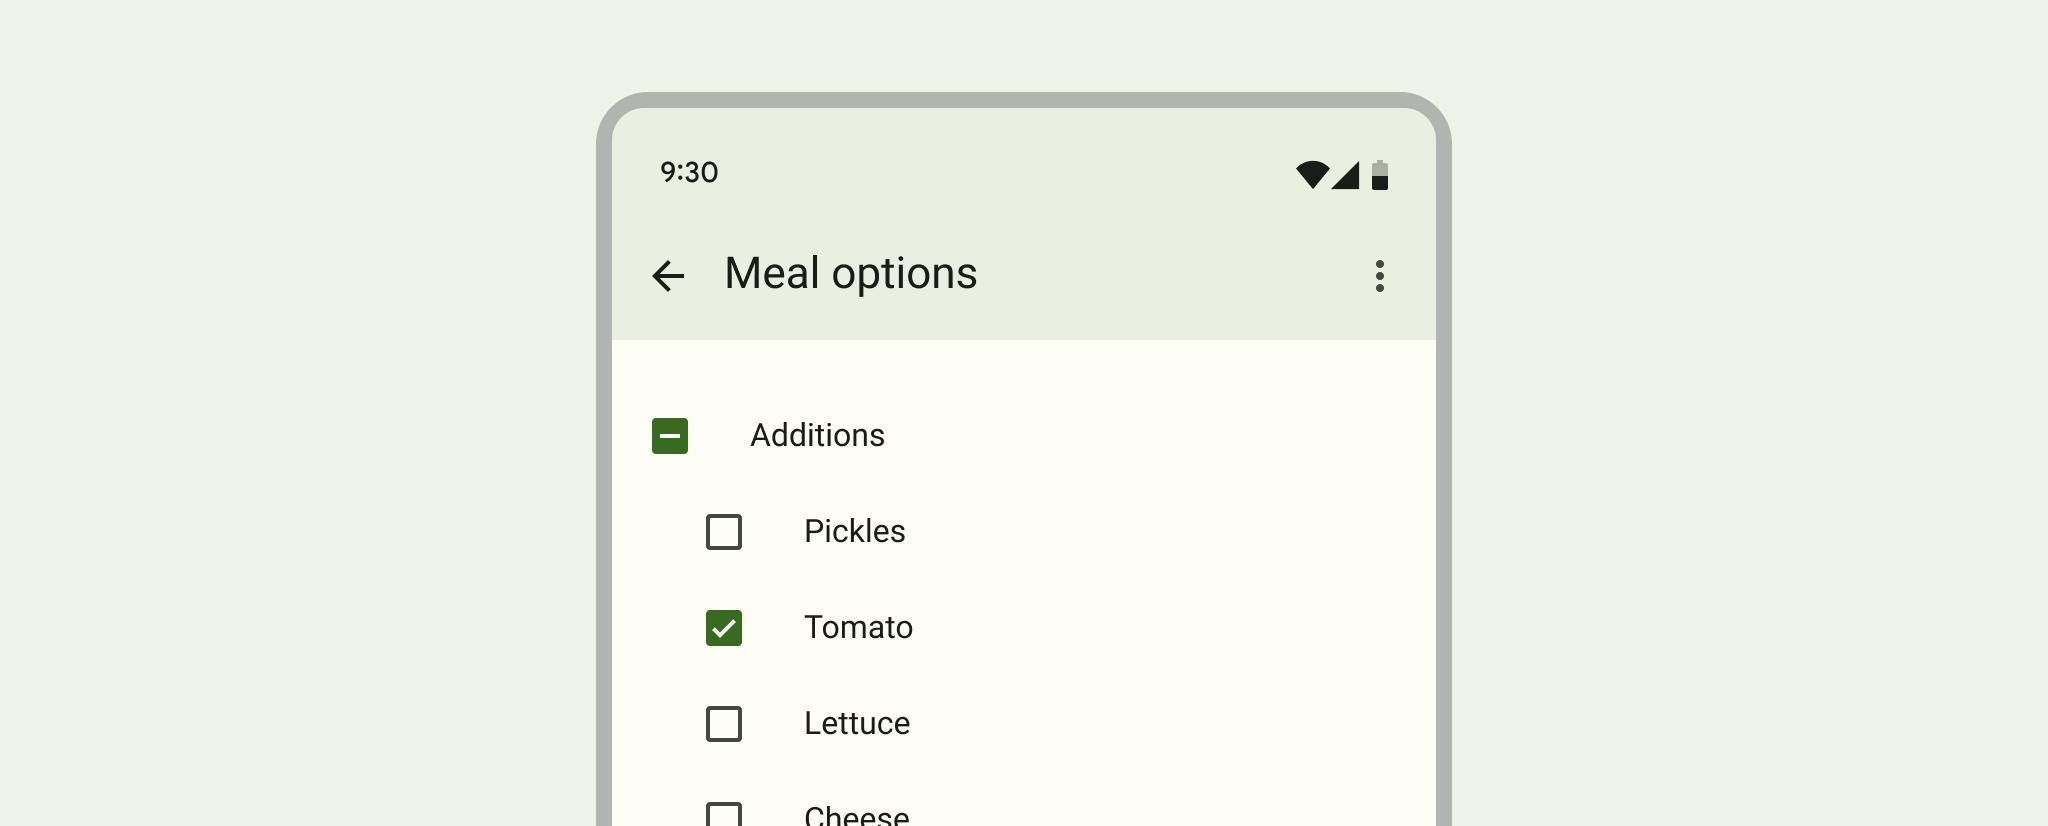checkbox: (707, 610, 744, 650), (650, 417, 688, 456), (708, 515, 744, 553), (707, 706, 742, 745), (705, 802, 747, 826)
icon: (648, 257, 699, 305), (1365, 251, 1405, 301)
label: (725, 252, 987, 306), (748, 416, 891, 459), (803, 711, 917, 742), (806, 616, 918, 647), (803, 519, 910, 552), (803, 796, 913, 826)
